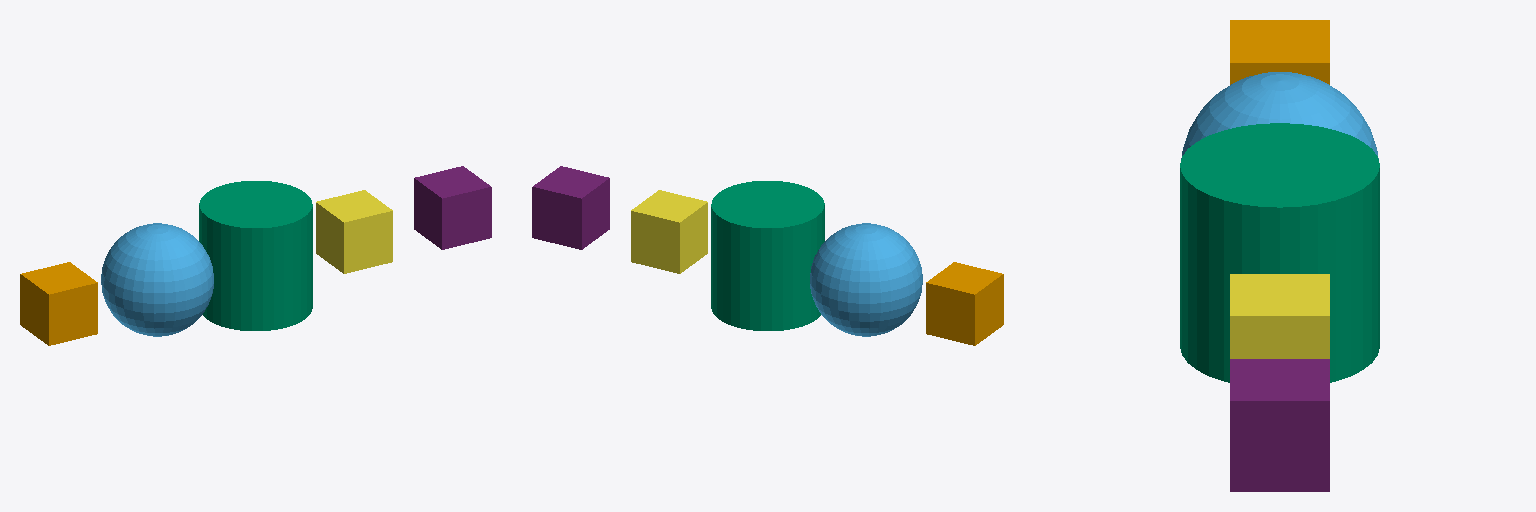
robot.urdf — material_texture:
<?xml version="1.0"?>
<robot name="material_texture">
  <material name="texture_material">
    <texture filename="assets/grid.png"/>
  </material>
  <material name="color_texture_material">
    <color rgba="0.5 0.2 0.5 1.0"/>
    <texture filename="assets/grid.png"/>
  </material>

  <link name="link_box">
    <visual>
      <geometry>
        <box size="0.5 0.5 0.5"/>
      </geometry>
      <material name="texture_material"/>
    </visual>
  </link>
  <link name="link_sphere">
    <visual>
      <geometry>
        <sphere radius="0.5"/>
      </geometry>
      <material name="texture_material"/>
    </visual>
  </link>
  <link name="link_cylinder">
    <visual>
      <geometry>
        <cylinder radius="0.5" length="1.0"/>
      </geometry>
      <material name="texture_material"/>
    </visual>
  </link>

  <link name="link_obj_texture">
    <visual>
      <geometry>
        <mesh filename="assets/box.obj" scale="0.5 0.5 0.5"/>
      </geometry>
      <material name="texture_material"/>
    </visual>
  </link>
  <link name="link_obj_color_texture">
    <visual>
      <geometry>
        <mesh filename="assets/box.obj" scale="0.5 0.5 0.5"/>
      </geometry>
      <material name="color_texture_material"/>
    </visual>
  </link>

  <joint name="joint_box_sphere" type="fixed">
    <origin rpy="0 0 0" xyz="1 0 0"/>
    <parent link="link_box"/>
    <child link="link_sphere"/>
  </joint>
  <joint name="joint_sphere_cylinder" type="fixed">
    <origin rpy="0 0 0" xyz="1 0 0"/>
    <parent link="link_sphere"/>
    <child link="link_cylinder"/>
  </joint>
  <joint name="joint_cylinder_obj_texture" type="fixed">
    <origin rpy="0 0 0" xyz="1 0 0"/>
    <parent link="link_cylinder"/>
    <child link="link_obj_texture"/>
  </joint>
  <joint name="joint_cylinder_obj_color_texture" type="fixed">
    <origin rpy="0 0 0" xyz="1 0 0"/>
    <parent link="link_obj_texture"/>
    <child link="link_obj_color_texture"/>
  </joint>
</robot>

--- Facts derived from the render (not from the file) ---
Views: 3 orthographic renders of the robot side by side, from view 1: azimuth 30°, elevation 25°; view 2: azimuth 150°, elevation 25°; view 3: azimuth 270°, elevation 25°.
Model material_texture with 5 links and 4 joints (4 fixed), rooted at link_box, posed every joint at zero.
Visible links, largest first — view 1: link_cylinder, link_sphere, link_box, link_obj_color_texture, link_obj_texture; view 2: link_cylinder, link_sphere, link_box, link_obj_color_texture, link_obj_texture; view 3: link_cylinder, link_obj_color_texture, link_obj_texture, link_sphere, link_box.
Boxes of the visible links, box(x1,y1,x2,y2) form: link_cylinder: box(199, 181, 312, 330); link_sphere: box(101, 223, 213, 336); link_box: box(20, 262, 97, 345); link_obj_color_texture: box(414, 166, 491, 249); link_obj_texture: box(316, 190, 392, 273); link_cylinder: box(711, 181, 824, 330); link_sphere: box(810, 223, 922, 336); link_box: box(926, 262, 1003, 345); link_obj_color_texture: box(532, 166, 609, 249); link_obj_texture: box(631, 190, 707, 273); link_cylinder: box(1180, 123, 1379, 382); link_obj_color_texture: box(1230, 359, 1329, 491); link_obj_texture: box(1230, 274, 1329, 358); link_sphere: box(1181, 72, 1378, 158); link_box: box(1230, 20, 1329, 84).
Size in the robot's own frame: 4.5 by 1 by 1 metres.
2 mesh visuals loaded from 1 distinct referenced files (1 OBJ).